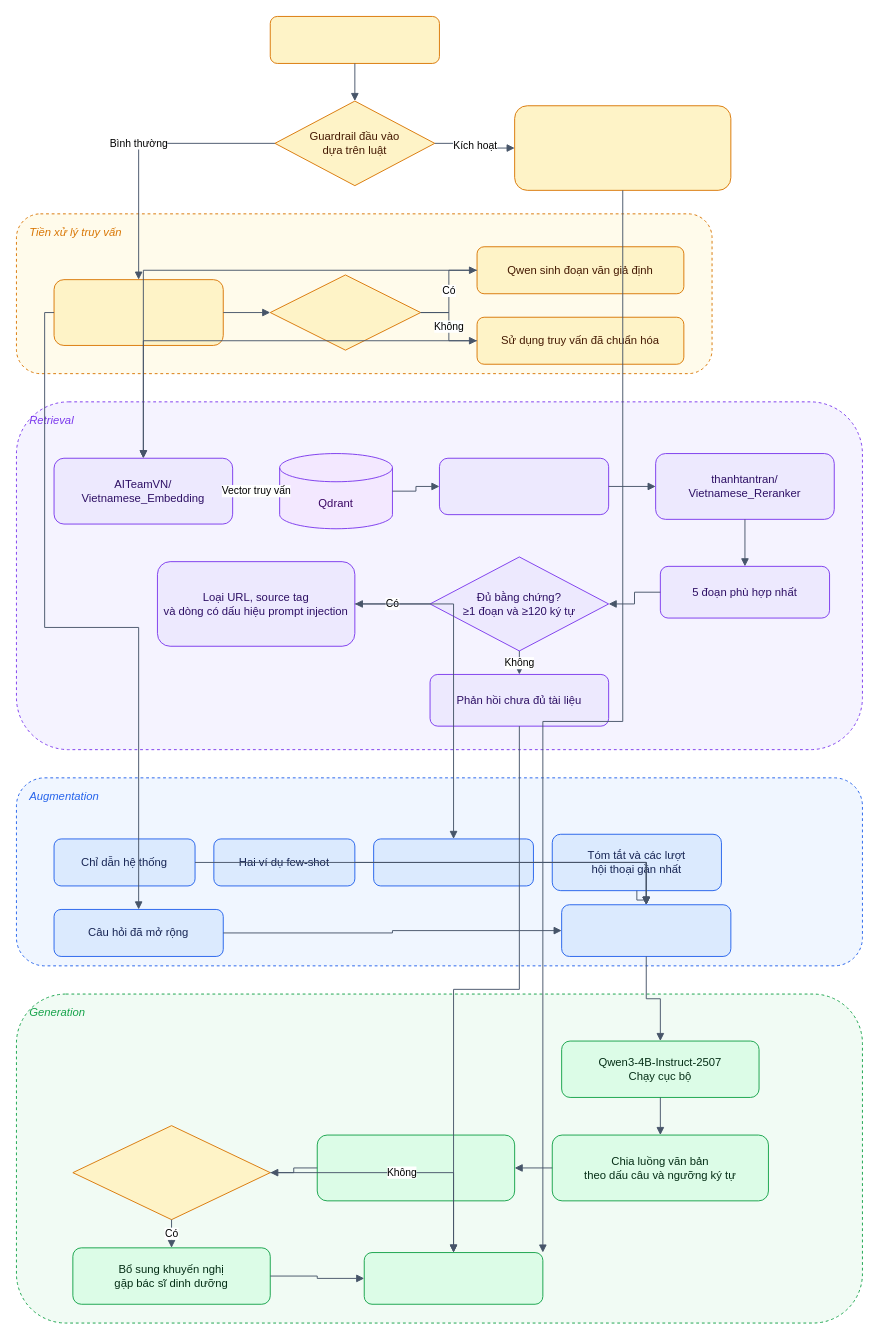
Image size: 879x1340. Some labels were removed from this diagram. The shapes that lost their labels are listed below. From the top down, each one's centre as x and y in pixels, then its label:
At pixel 354 39: "Transcript từ ASR".
At pixel 622 147: "Phản hồi cố định: khẩn cấp, quyết định lâm sàng hoặc ngoài phạm vi".
At pixel 138 312: "Query expansion dựa trên từ điển".
At pixel 345 312: "Kích hoạt HyDE?".
At pixel 524 486: "15 đoạn văn bản ứng viên".
At pixel 453 862: "Ngữ cảnh đã làm sạch".
At pixel 646 930: "Prompt hoàn chỉnh có context".
At pixel 171 1172: "Thiếu disclaimer hoặc có phát biểu không an toàn?".
At pixel 415 1167: "Loại URL và chuẩn hóa đầu ra cho kênh thoại".
At pixel 453 1278: "Text stream gửi Gateway".
